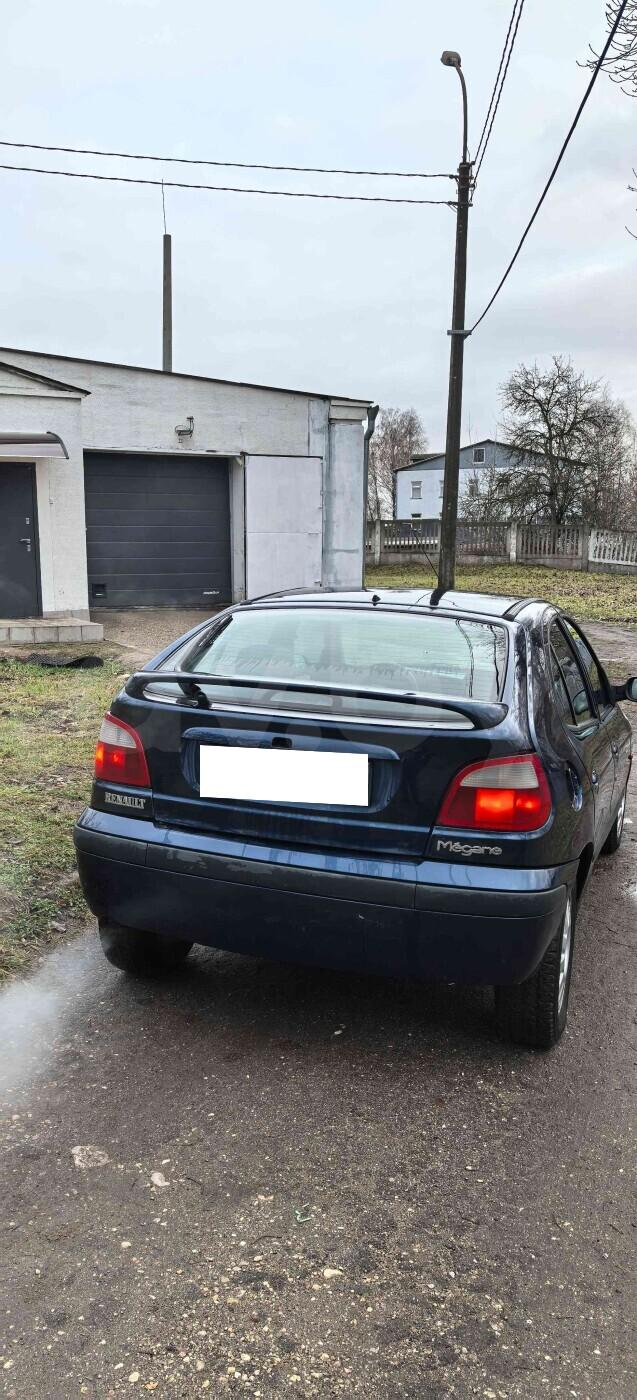Megane_1999-2003: (82, 580, 634, 1056)
